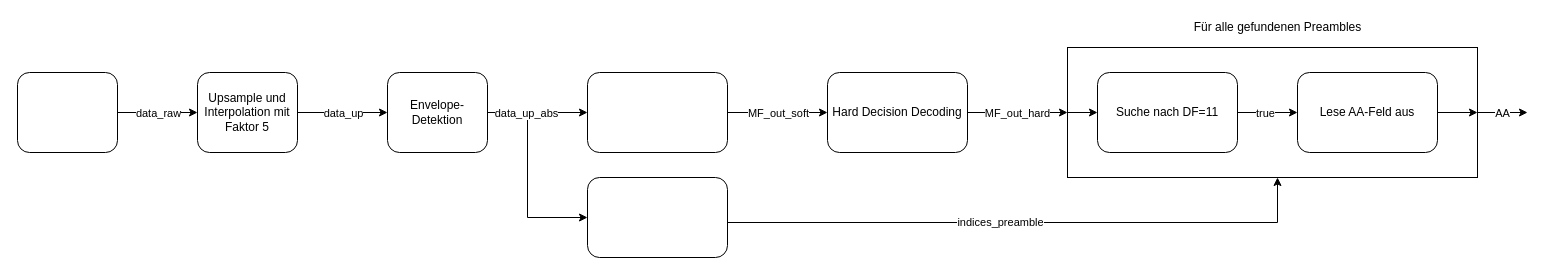
Image size: 1553x275. Some labels were removed from this diagram. The shapes that lost their labels are listed below. From the top down, each one's box as (x1, y1, x2, y2) in pixels, then its label:
(16, 72, 118, 152): Lade IQ-Daten von Basisband
(586, 72, 728, 152): Faltung mit Matched Filter
(586, 176, 728, 258): Suche nach Frame durch Kreuzkorrelation mit Preamble
